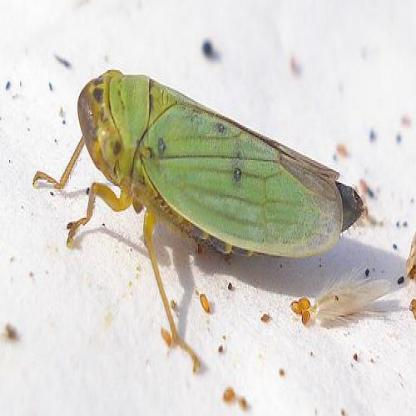Green-Leafhopper: (32, 64, 364, 342)
